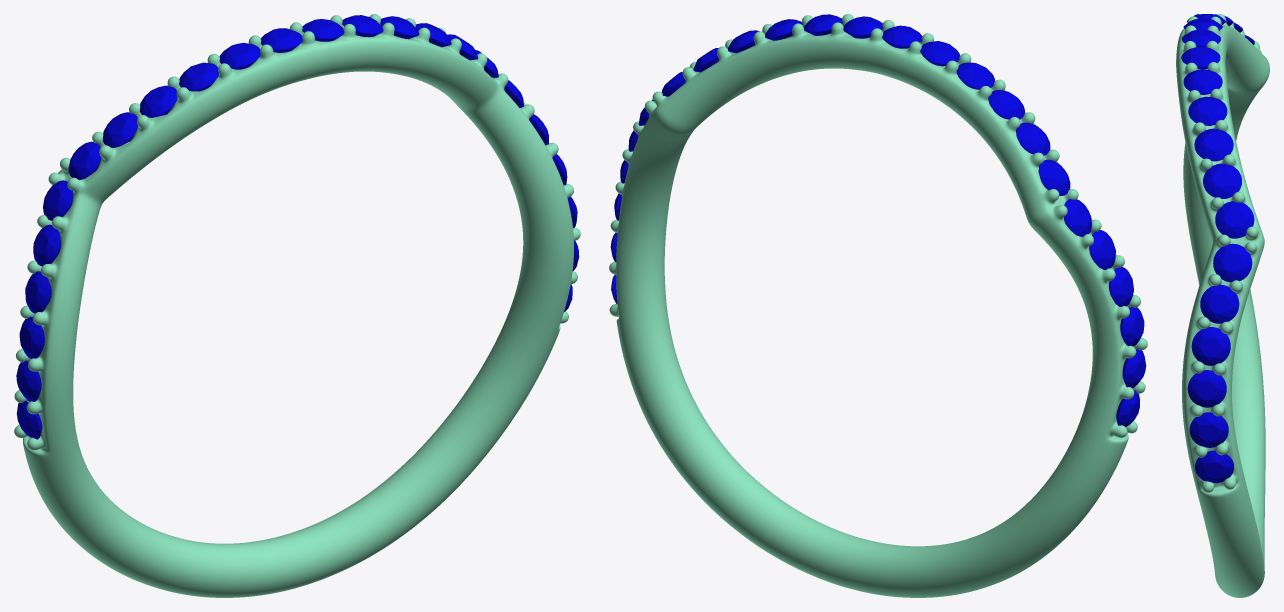
3 renders of one model, left to right at view 1: azimuth 30°, elevation 25°; view 2: azimuth 150°, elevation 25°; view 3: azimuth 270°, elevation 25°, orthographic. The views are drawn at different scales.
Visible parts, largest first — view 1: Metal03, Diamond_Band.020, Diamond_Band.013, Diamond_Band.021, Diamond_Band.011, Diamond_Band.012, Diamond_Band.019, Diamond_Band.010, Diamond_Band.018, Diamond_Band.009, Diamond_Band.017, Diamond_Band.008; view 2: Metal03, Diamond_Band.020, Diamond_Band.013, Diamond_Band.012, Diamond_Band.021, Diamond_Band.011, Diamond_Band.019, Diamond_Band.010, Diamond_Band.018, Diamond_Band.009; view 3: Metal03, Diamond_Band.004, Diamond_Band.005, Diamond_Band.003, Diamond_Band.006, Diamond_Band.002, Diamond_Band.001, Diamond_Band.007, Diamond_Band, Diamond_Band.023, Diamond_Band.014, Diamond_Band.015 (+3 smaller).
Part boxes in pixels (x1=…): Metal03: x1=14, y1=14, x2=580, y2=597; Diamond_Band.020: x1=103, y1=112, x2=137, y2=147; Diamond_Band.013: x1=68, y1=141, x2=101, y2=179; Diamond_Band.021: x1=139, y1=85, x2=177, y2=117; Diamond_Band.011: x1=33, y1=224, x2=60, y2=266; Diamond_Band.012: x1=43, y1=180, x2=73, y2=220; Diamond_Band.019: x1=179, y1=62, x2=218, y2=91; Diamond_Band.010: x1=25, y1=271, x2=51, y2=313; Diamond_Band.018: x1=219, y1=42, x2=260, y2=69; Diamond_Band.009: x1=19, y1=317, x2=44, y2=358; Diamond_Band.017: x1=261, y1=28, x2=302, y2=52; Diamond_Band.008: x1=16, y1=360, x2=41, y2=401; Metal03: x1=609, y1=14, x2=1147, y2=597; Diamond_Band.020: x1=1016, y1=122, x2=1050, y2=155; Diamond_Band.013: x1=1038, y1=159, x2=1070, y2=195; Diamond_Band.012: x1=1064, y1=199, x2=1091, y2=236; Diamond_Band.021: x1=988, y1=90, x2=1024, y2=119; Diamond_Band.011: x1=1089, y1=230, x2=1115, y2=269; Diamond_Band.019: x1=956, y1=62, x2=994, y2=89; Diamond_Band.010: x1=1109, y1=267, x2=1133, y2=306; Diamond_Band.018: x1=920, y1=41, x2=959, y2=66; Diamond_Band.009: x1=1120, y1=307, x2=1144, y2=346; Metal03: x1=1176, y1=14, x2=1269, y2=597; Diamond_Band.004: x1=1200, y1=284, x2=1239, y2=323; Diamond_Band.005: x1=1191, y1=327, x2=1230, y2=365; Diamond_Band.003: x1=1213, y1=243, x2=1252, y2=282; Diamond_Band.006: x1=1187, y1=370, x2=1226, y2=407; Diamond_Band.002: x1=1215, y1=201, x2=1254, y2=238; Diamond_Band.001: x1=1203, y1=163, x2=1241, y2=198; Diamond_Band.007: x1=1189, y1=412, x2=1228, y2=447; Diamond_Band: x1=1194, y1=128, x2=1233, y2=161; Diamond_Band.023: x1=1195, y1=450, x2=1233, y2=483; Diamond_Band.014: x1=1188, y1=96, x2=1227, y2=125; Diamond_Band.015: x1=1183, y1=69, x2=1222, y2=94.
Bounding box in the file's own units: 20.91 × 20.91 × 3.36.
